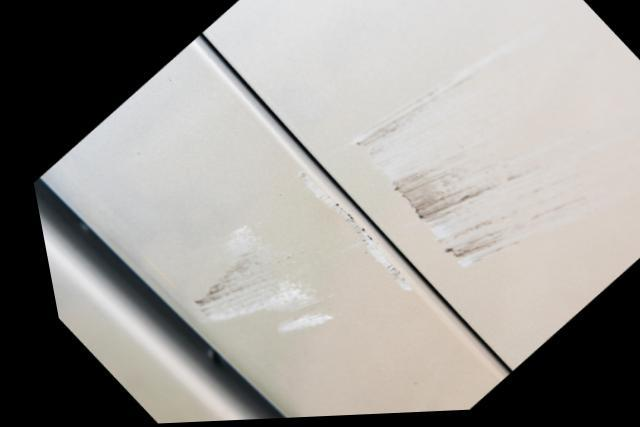scratch: (343, 23, 640, 272), (179, 172, 406, 340)
